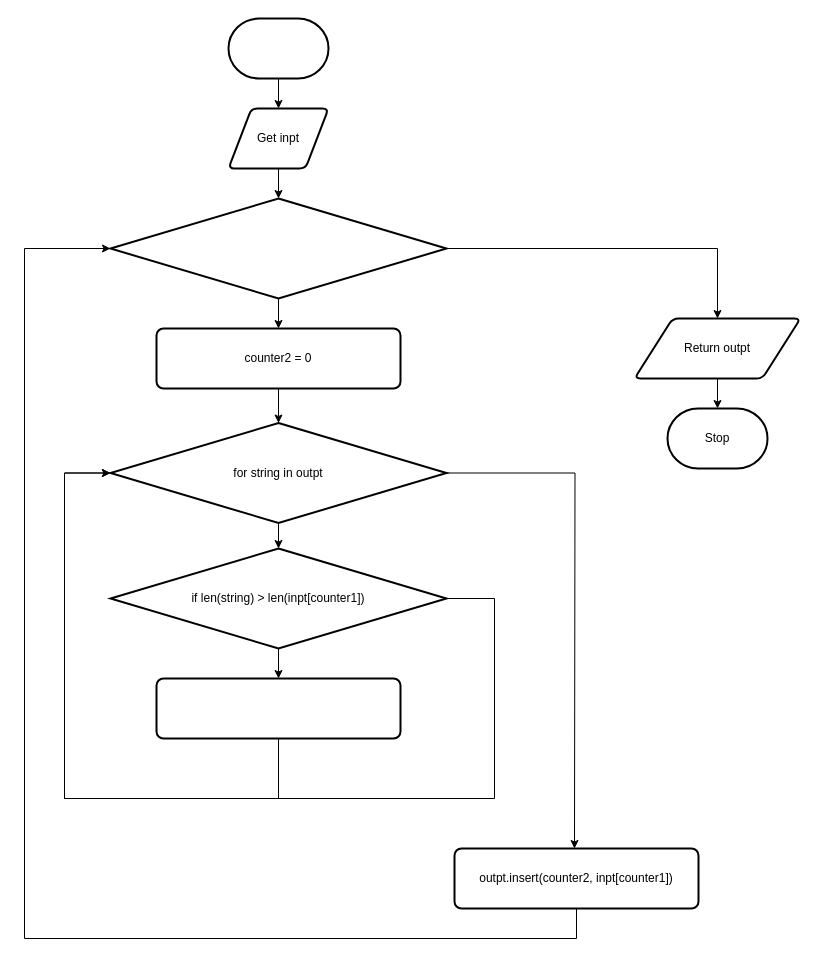
This 819x964 diagram has some shape labels left out. Each missing label, with the box of its shape:
counter2 += 1: (155, 677, 401, 739)
for counter1 in range(len(inpt)): (109, 197, 447, 299)
Start: (227, 17, 329, 79)
